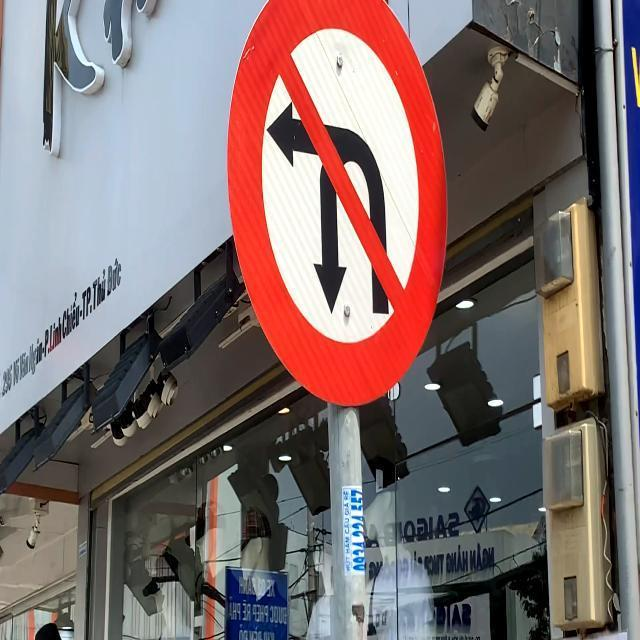124c-cam-re-trai-va-cam-quay-dau-xe: (228, 1, 448, 403)
